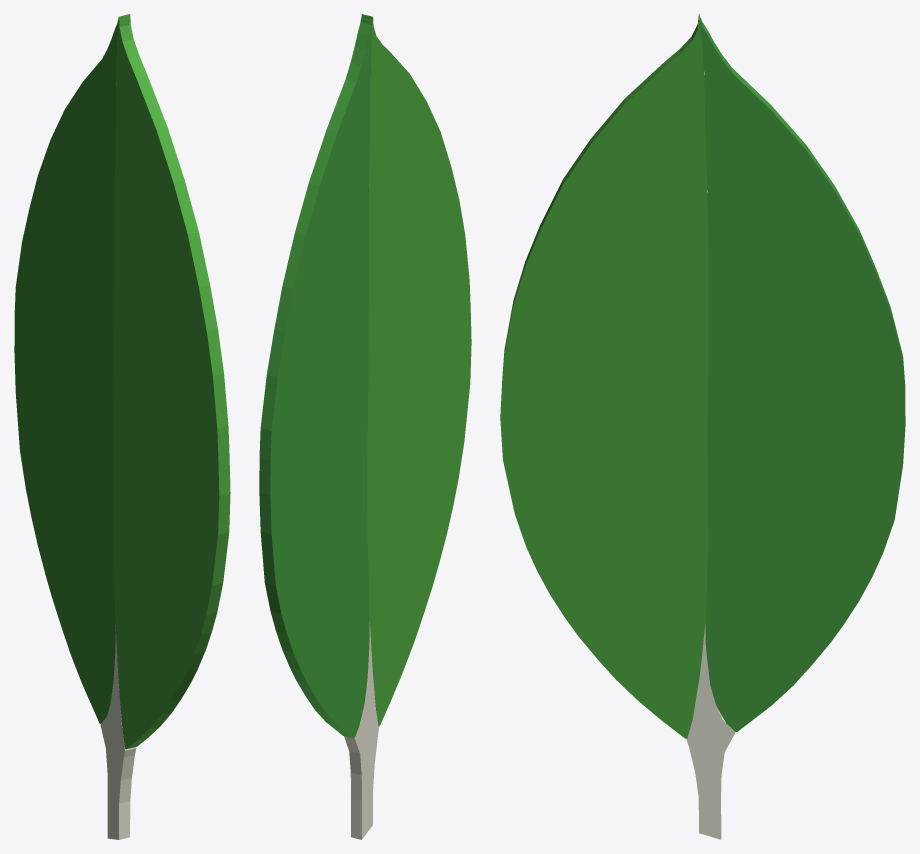
The model's file is mongoDB.glb.
3 renders of one model, left to right at view 1: azimuth 30°, elevation 25°; view 2: azimuth 150°, elevation 25°; view 3: azimuth 270°, elevation 25°, orthographic.
Visible parts, largest first — view 1: mongologo; view 2: mongologo; view 3: mongologo.
Boxes of the visible parts, <box> form: mongologo: <box>14,14,230,839</box>; mongologo: <box>259,14,471,839</box>; mongologo: <box>500,14,905,839</box>.
Size of the model in its own units: 0.005 by 0.3538 by 0.1583.
